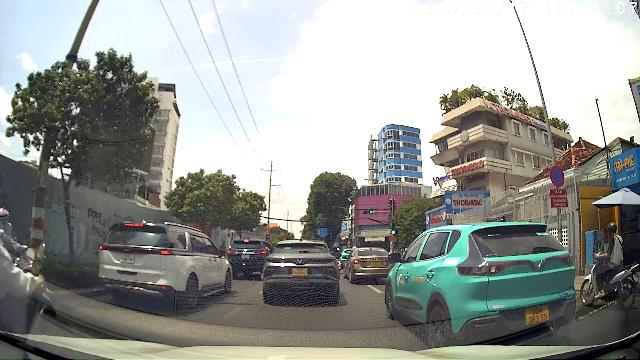130-cam-dung-va-do-xe: (549, 166, 565, 186)
